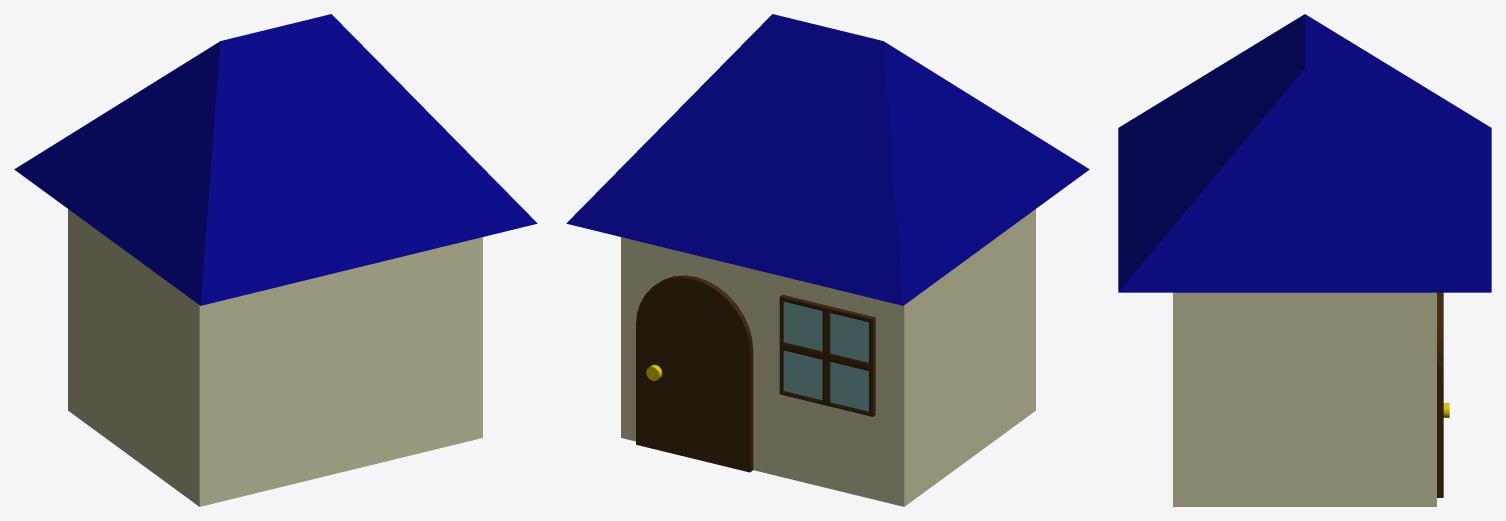
Rendered from house.fbx.
3 renders of one model, left to right at view 1: azimuth 30°, elevation 25°; view 2: azimuth 150°, elevation 25°; view 3: azimuth 270°, elevation 25°, orthographic.
Visible parts, largest first — view 1: Cube; view 2: Cube; view 3: Cube.
Part boxes in pixels (box(x1,y1,x2,y2)): Cube: box(14, 14, 537, 506); Cube: box(566, 14, 1089, 506); Cube: box(1118, 14, 1491, 506).
Size of the model in its own units: 591 by 664 by 566.
